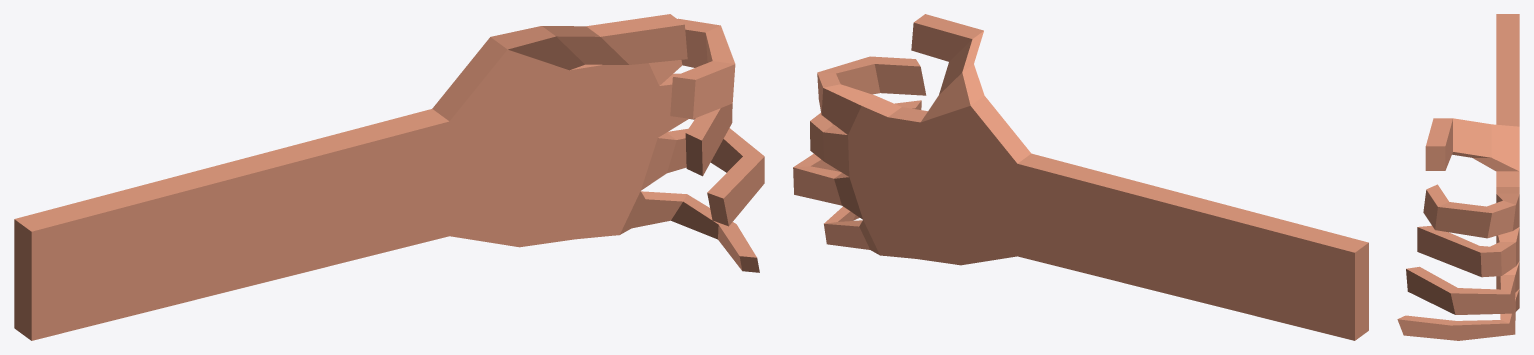
File: main.fbx
3 views of the same model, side by side, from view 1: azimuth 30°, elevation 25°; view 2: azimuth 150°, elevation 25°; view 3: azimuth 270°, elevation 25° (orthographic). The views are drawn at different scales.
Parts seen in each view (by area): view 1: hand.001; view 2: hand.001; view 3: hand.001.
Part boxes in pixels (x1,y1,x2,y2): hand.001: (14, 14, 764, 340); hand.001: (793, 14, 1368, 340); hand.001: (1397, 14, 1519, 340).
Size of the model in its own units: 68.08 by 23.44 by 15.13.
